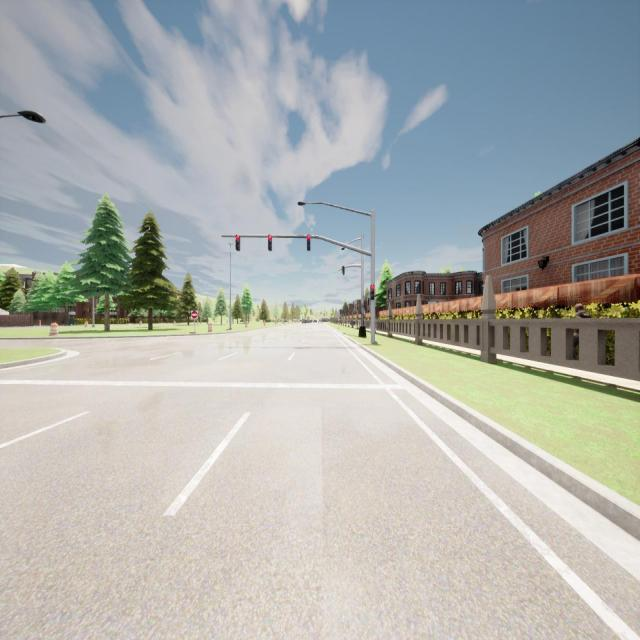Traffic_Signs: (191, 310, 198, 320)
Vehicle: (306, 318, 312, 325), (312, 318, 318, 324), (318, 318, 323, 324), (301, 319, 306, 324)
traffic_light: (370, 284, 375, 300), (268, 235, 272, 251), (236, 236, 240, 251), (307, 235, 310, 251), (342, 265, 344, 276)
